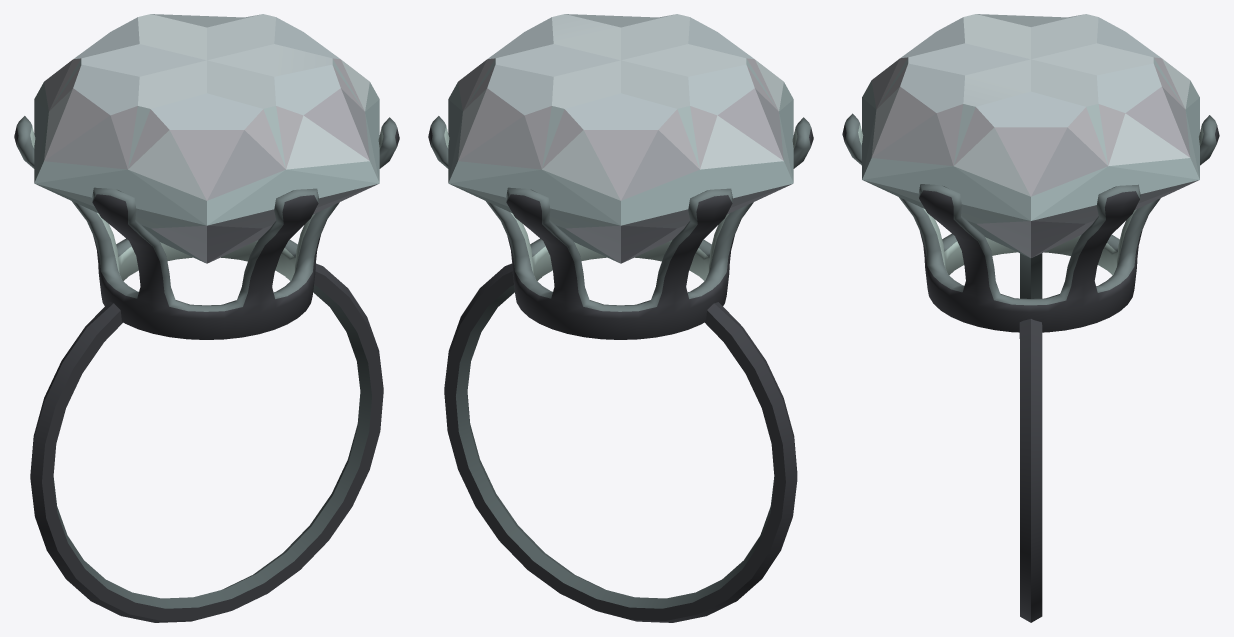
File: diamondring.fbx
3 views of the same model, side by side, from view 1: azimuth 30°, elevation 25°; view 2: azimuth 150°, elevation 25°; view 3: azimuth 270°, elevation 25° (orthographic). The views are drawn at different scales.
Visible parts, largest first — view 1: pCylinder1, pTorus3; view 2: pCylinder1, pTorus3; view 3: pCylinder1, pTorus3.
Boxes of the visible parts, x1,y1,x2,y2 form: pCylinder1: (34, 14, 379, 263); pTorus3: (14, 116, 399, 622); pCylinder1: (448, 14, 793, 263); pTorus3: (428, 116, 813, 622); pCylinder1: (862, 14, 1199, 257); pTorus3: (842, 113, 1219, 622).
Size of the model in its own units: 2.78 by 4.19 by 2.63.
Materials: 1 (1 with a texture image).
